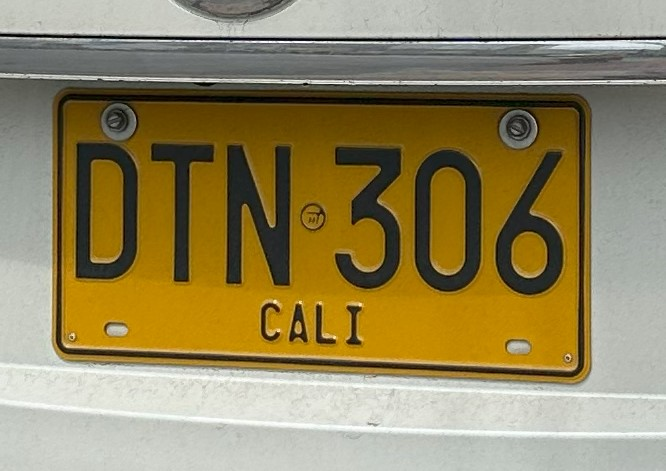number plate: (53, 89, 589, 381)
